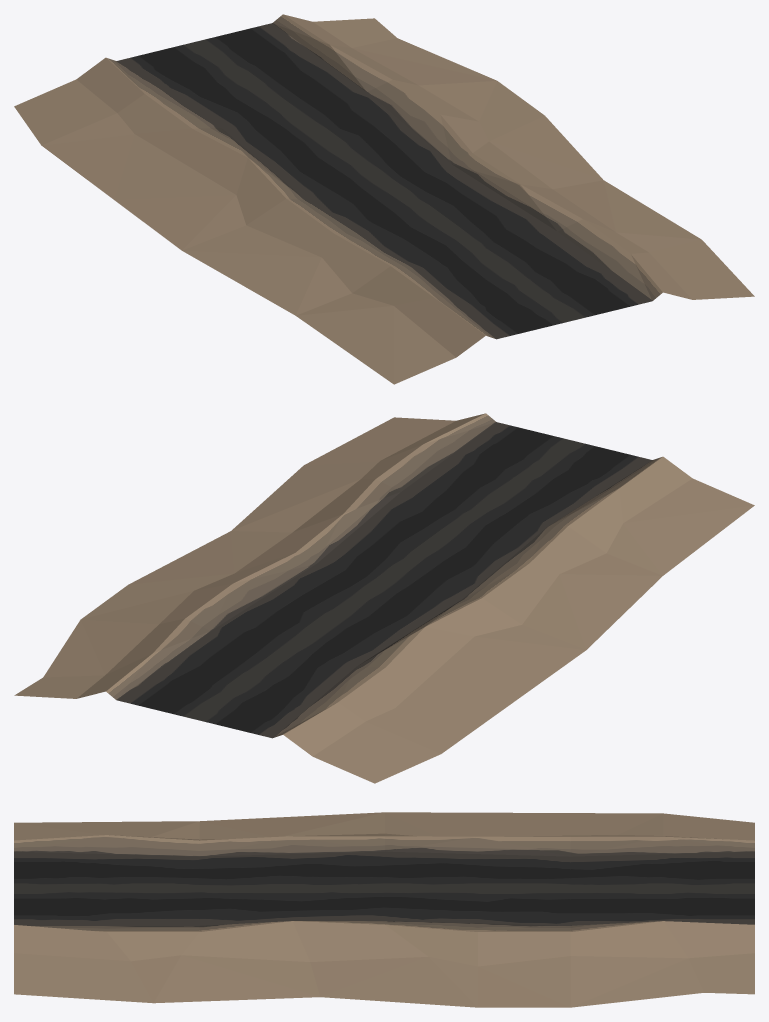
File: SM_Env_Road_02.fbx
The picture shows the model from 3 angles, top to bottom: view 1: azimuth 30°, elevation 25°; view 2: azimuth 150°, elevation 25°; view 3: azimuth 270°, elevation 25°; orthographic projection. The views are drawn at different scales.
Parts seen in each view (by area): view 1: SM_Env_Road_02; view 2: SM_Env_Road_02; view 3: SM_Env_Road_02.
Boxes of the visible parts, x1,y1,x2,y2 form: SM_Env_Road_02: (14, 14, 754, 384); SM_Env_Road_02: (14, 413, 754, 783); SM_Env_Road_02: (14, 812, 754, 1007).
Size of the model in its own units: 1560 by 110 by 2500.
